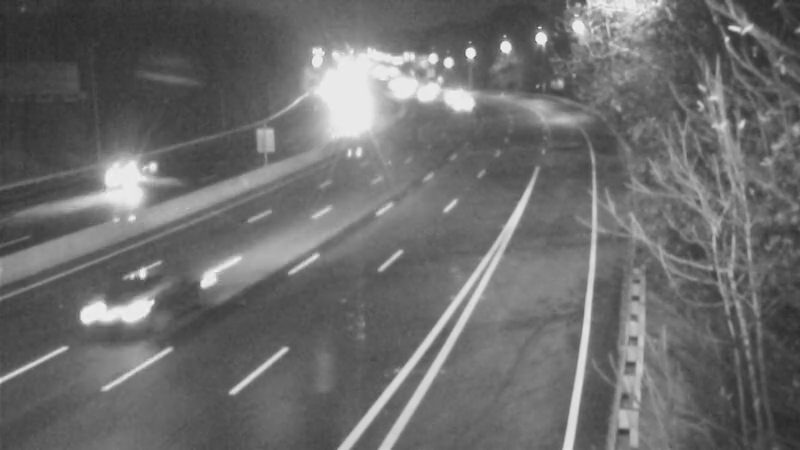vehicle: (65, 250, 175, 360), (90, 137, 170, 217)
